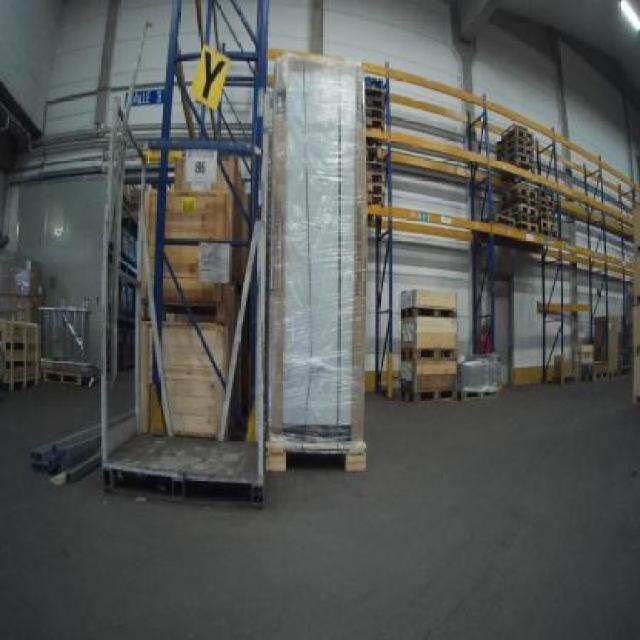ground: (0, 370, 638, 638)
pallet: (95, 428, 267, 515), (494, 185, 558, 241), (263, 441, 369, 473), (138, 297, 236, 322), (494, 125, 537, 176), (42, 364, 99, 390), (361, 85, 389, 131), (398, 304, 458, 321), (397, 385, 458, 401), (366, 170, 390, 207), (399, 345, 458, 359), (458, 385, 504, 401)
